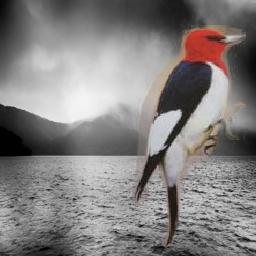Woodpecker: (132, 26, 246, 247)
